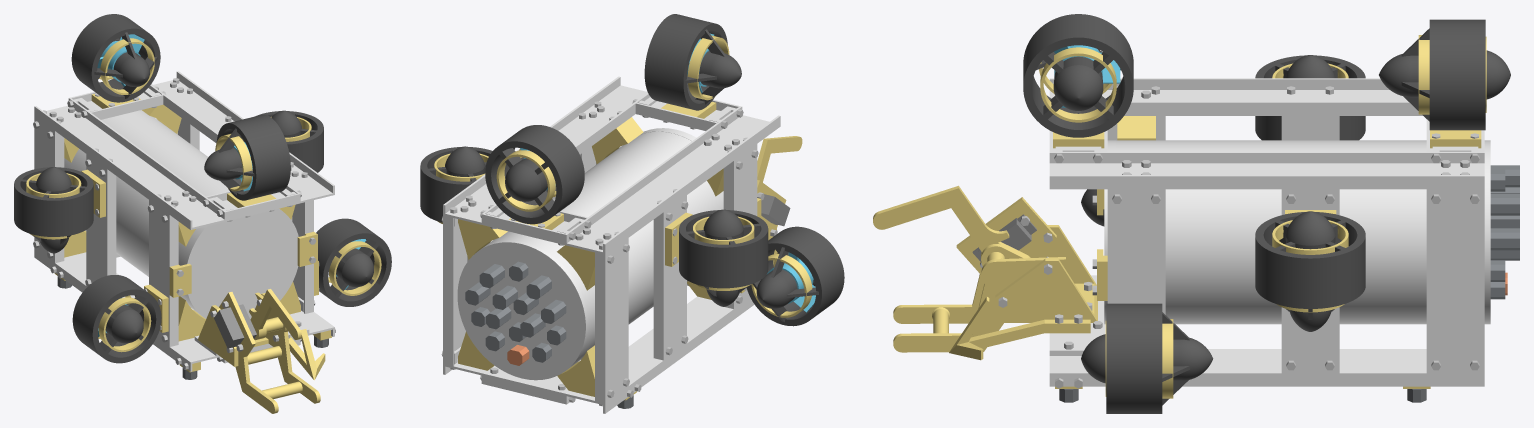
Rendered from ROV22.gltf.
3 views of the same model, side by side, from view 1: azimuth 30°, elevation 25°; view 2: azimuth 150°, elevation 25°; view 3: azimuth 270°, elevation 25° (orthographic). The views are drawn at different scales.
Parts seen in each view (by area): view 1: Part 11 (×6), 1107-0014-0360 rev1 (×4), Front acrylic end cap, 1107-0006-0168 rev1 (×5), Pressure hold tube, Part 13 (×3), T-200 inlet guard (×3), Pressure hold support (×4), 1107-0003-0096 rev1 (×2), prong5_Top, prong5_Bot, T-200 exhaust guard (×2) (+7 smaller); view 2: Part 11 (×5), 1107-0014-0360 rev1 (×3), 1107-0006-0168 rev1 (×4), Rear aluminum end cap, Pressure hold tube, Pressure hold support (×5), 1107-0003-0096 rev1 (×3), Part 13 (×3), NONE (×7), T-200 inlet guard (×3), T-200 exhaust guard (×2), T-200 mount base (×2) (+3 smaller); view 3: Part 11 (×5), 1107-0014-0360 rev1 (×3), Pressure hold tube, 1107-0006-0168 rev1 (×4), Part 1 (×2), Part 13 (×3), prong5_Mid, prong5_Top, prong5_Bot, static manipulator (mirrored), T-200 inlet guard (×2), T-200 exhaust guard (×2) (+5 smaller).
Part boxes in pixels (x1,y1,x2,y2): Part 11 (×6): (14,14,391,363); 1107-0014-0360 rev1 (×4): (34,71,334,371); Front acrylic end cap: (182,208,298,319); 1107-0006-0168 rev1 (×5): (34,116,313,346); Pressure hold tube: (64,110,229,311); Part 13 (×3): (32,32,254,253); T-200 inlet guard (×3): (26,173,381,352); Pressure hold support (×4): (64,104,300,341); 1107-0003-0096 rev1 (×2): (70,91,298,221); prong5_Top: (219,292,282,413); prong5_Bot: (255,292,320,403); T-200 exhaust guard (×2): (100,38,252,191); Part 11 (×5): (420,14,844,326); 1107-0014-0360 rev1 (×3): (443,76,780,413); 1107-0006-0168 rev1 (×4): (443,144,757,403); Rear aluminum end cap: (457,240,588,380); Pressure hold tube: (483,131,723,366); Pressure hold support (×5): (458,117,643,396); 1107-0003-0096 rev1 (×3): (483,99,739,403); Part 13 (×3): (685,29,818,322); NONE (×7): (465,264,566,337); T-200 inlet guard (×3): (434,150,754,244); T-200 exhaust guard (×2): (687,35,812,317); T-200 mount base (×2): (661,102,716,266); Part 11 (×5): (1023,14,1510,413); 1107-0014-0360 rev1 (×3): (1049,78,1484,386); Pressure hold tube: (1116,140,1426,324); 1107-0006-0168 rev1 (×4): (1107,116,1484,373); Part 1 (×2): (995,225,1105,355); Part 13 (×3): (1162,28,1429,405); prong5_Mid: (873,185,1030,265); prong5_Top: (893,197,1056,327); prong5_Bot: (893,257,1065,352); static manipulator (mirrored): (949,296,1090,360); T-200 inlet guard (×2): (1040,47,1348,254); T-200 exhaust guard (×2): (1162,35,1429,398).
Bounding box in the file's own units: 0.3979 × 0.3005 × 0.5354.
